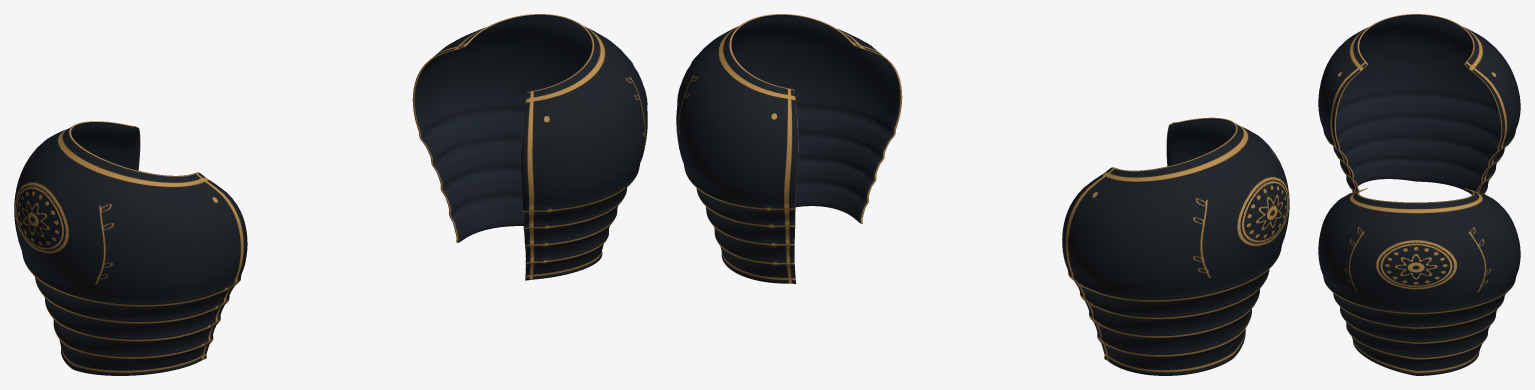
The model's file is SM_ObsidianSovereign_Shoulders_preview_2K.glb.
3 renders of one model, left to right at view 1: azimuth 30°, elevation 25°; view 2: azimuth 150°, elevation 25°; view 3: azimuth 270°, elevation 25°, orthographic. The views are drawn at different scales.
Parts seen in each view (by area): view 1: SM_ObsidianSovereign_Shoulders_L, SM_ObsidianSovereign_Shoulders_R; view 2: SM_ObsidianSovereign_Shoulders_R, SM_ObsidianSovereign_Shoulders_L; view 3: SM_ObsidianSovereign_Shoulders_L, SM_ObsidianSovereign_Shoulders_R.
Boxes of the visible parts, bbox=[...] form: SM_ObsidianSovereign_Shoulders_L: bbox=[412, 14, 647, 280]; SM_ObsidianSovereign_Shoulders_R: bbox=[14, 121, 247, 375]; SM_ObsidianSovereign_Shoulders_R: bbox=[1062, 117, 1289, 375]; SM_ObsidianSovereign_Shoulders_L: bbox=[676, 14, 902, 283]; SM_ObsidianSovereign_Shoulders_L: bbox=[1318, 188, 1520, 375]; SM_ObsidianSovereign_Shoulders_R: bbox=[1318, 14, 1520, 194].
Bounding box in the file's own units: 0.7665 × 0.269 × 0.2901.
Materials: 1 (1 with a texture image).
